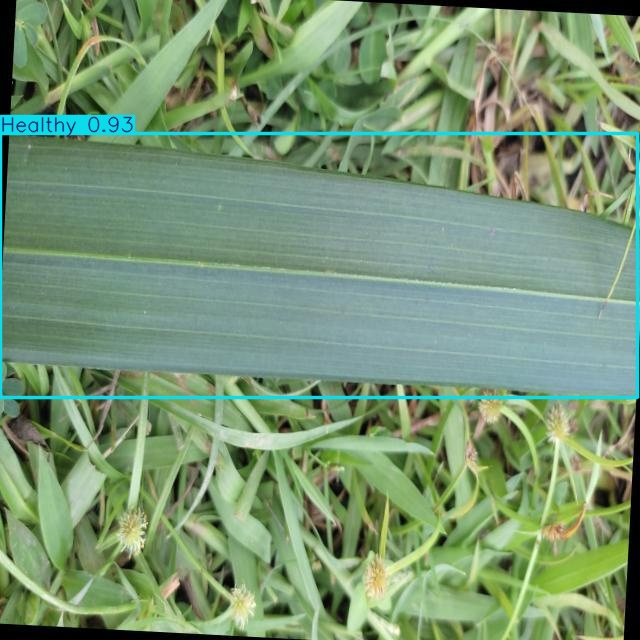Healthy: (1, 134, 638, 397)
